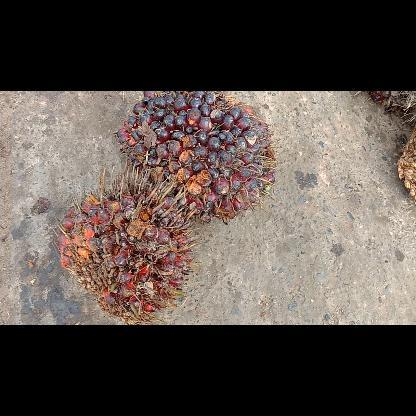Kurang masak: (115, 91, 277, 225)
TBS masak: (52, 162, 198, 324)
